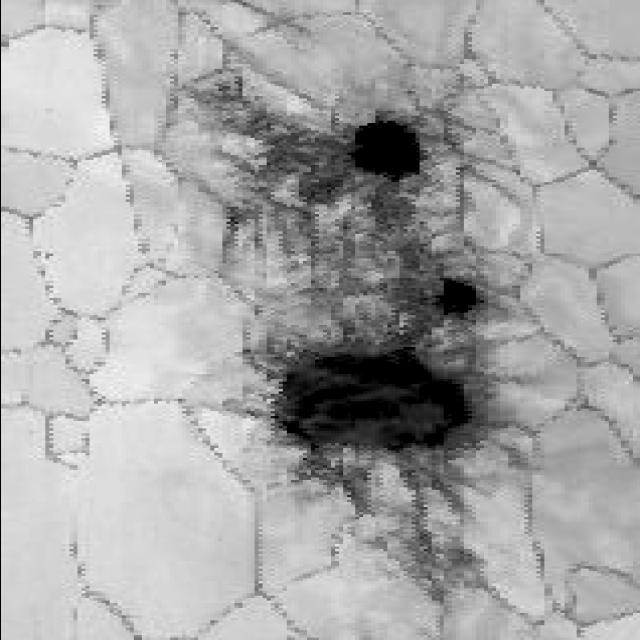good_void: (167, 73, 547, 606)
